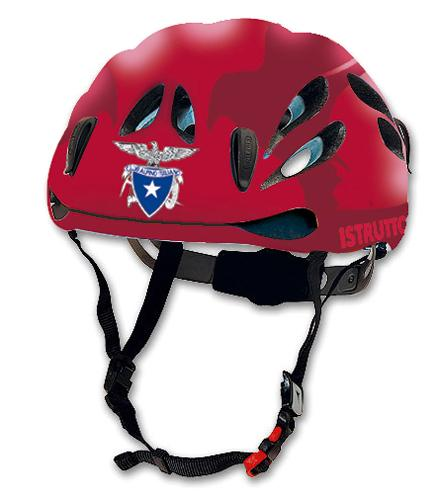helmet: (73, 30, 411, 272)
